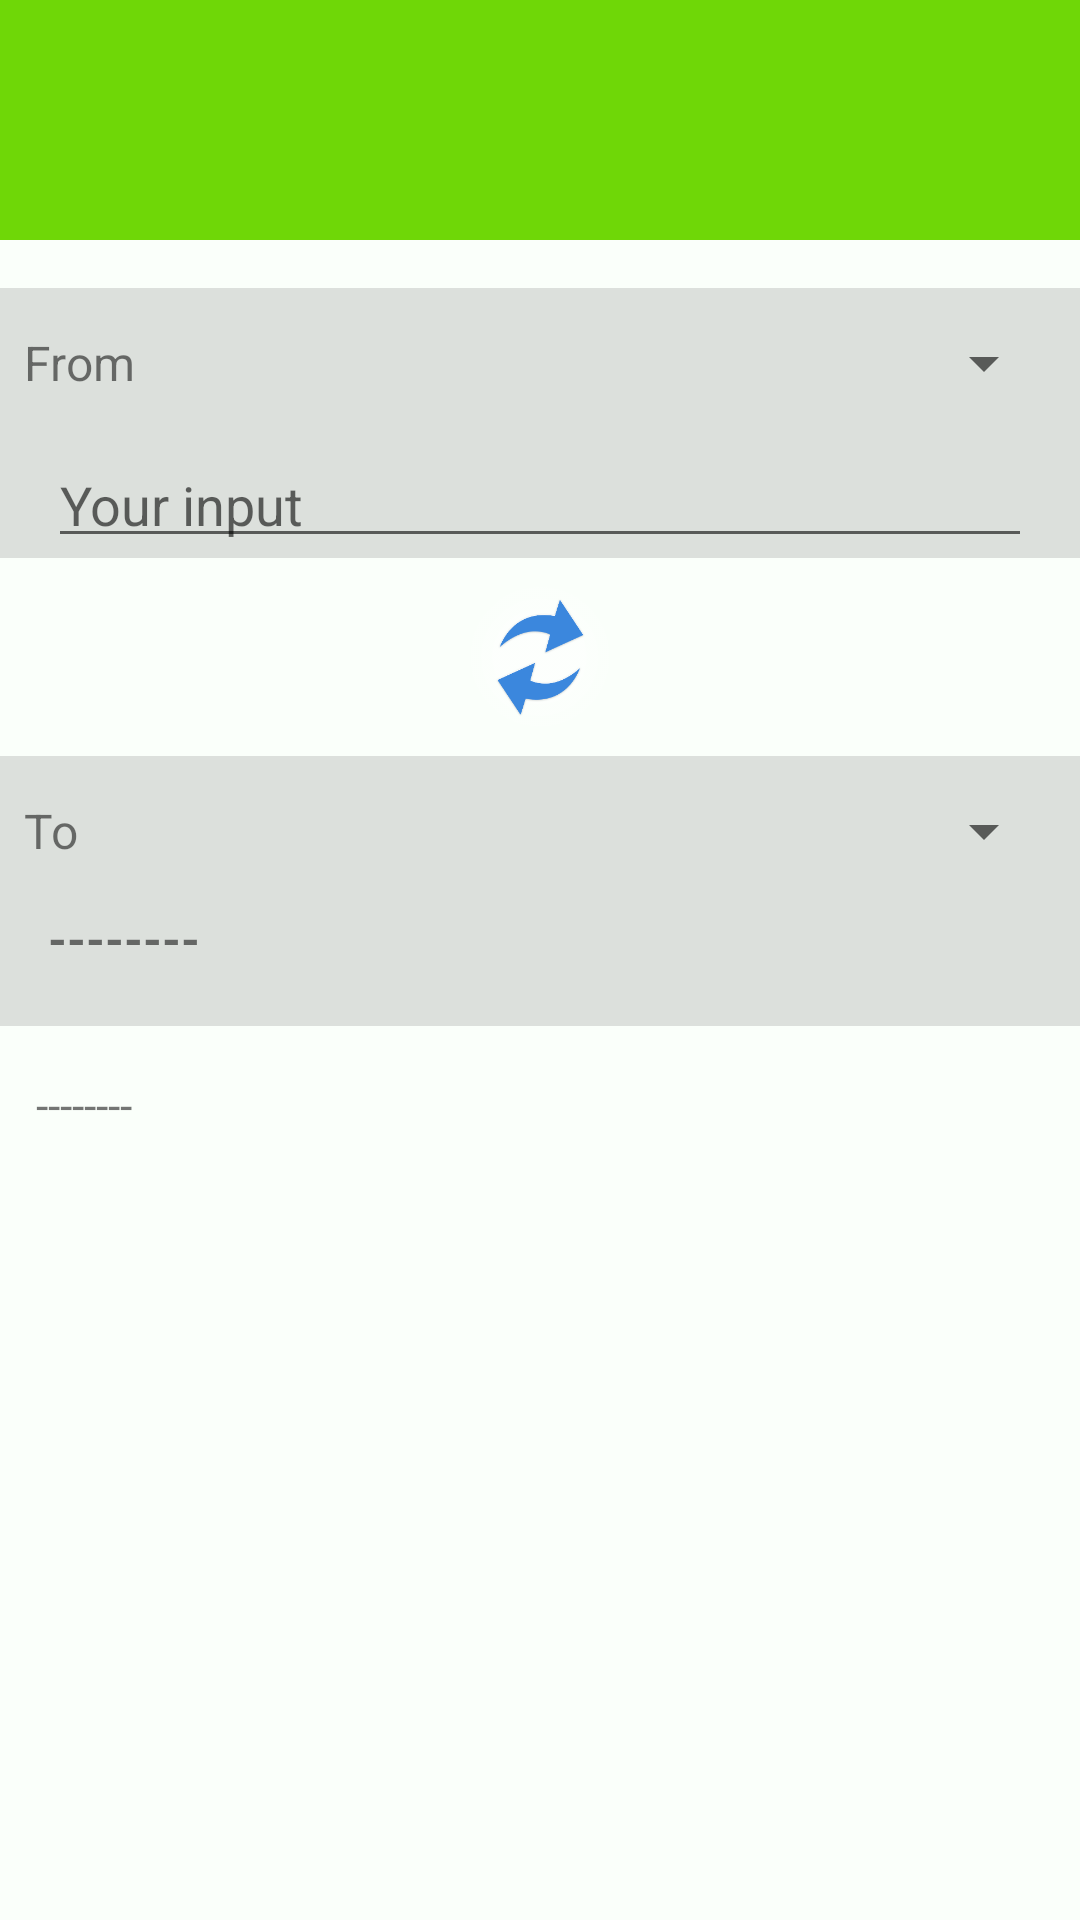

Icons on this 1080px x 1920px Android screen, each with its box as detection(x1, y1, x2, y2):
conv: detection(498, 600, 583, 715)
